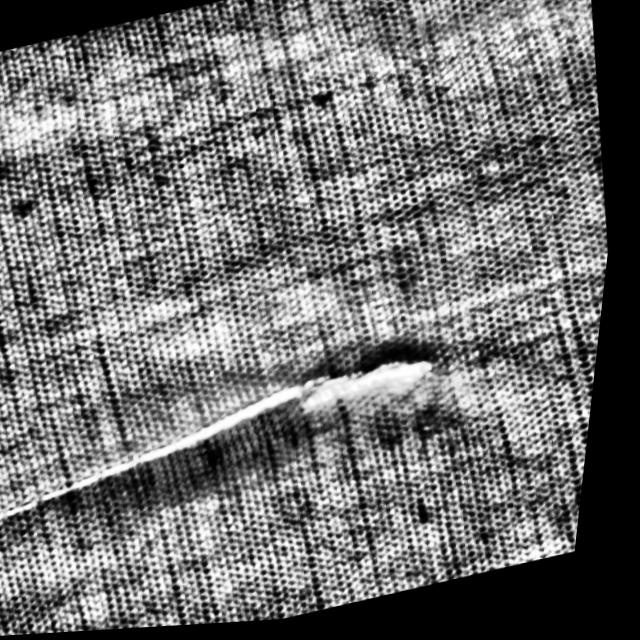Hole: (272, 316, 488, 454)
Stitch: (0, 376, 281, 540)
